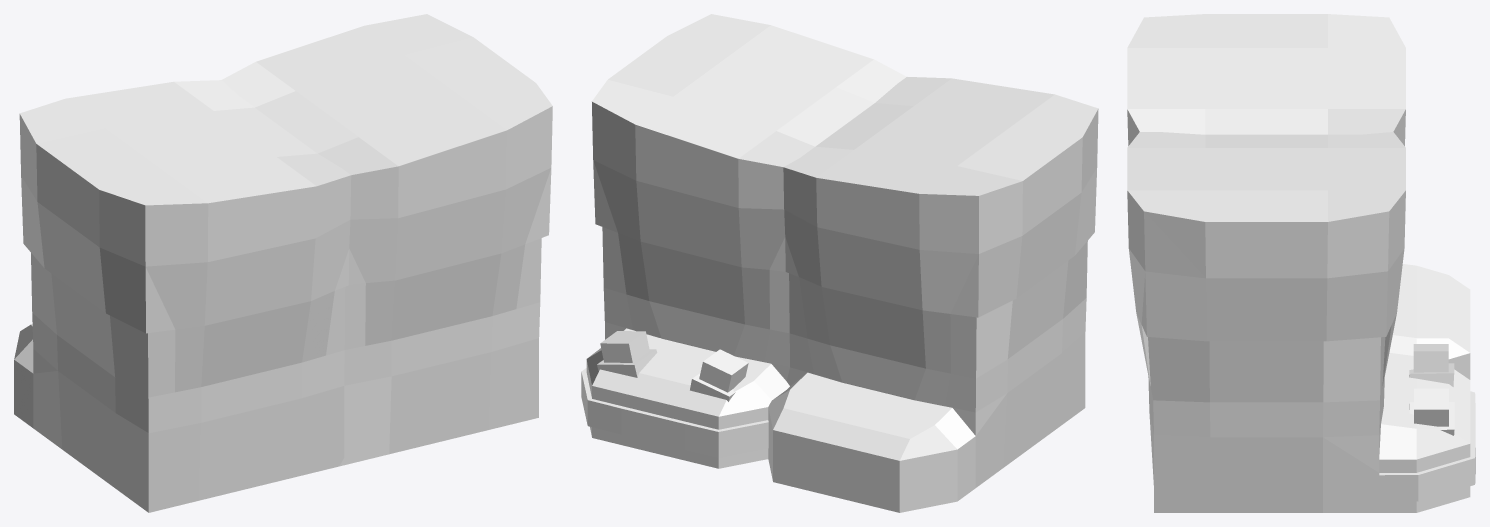
3 renders of one model, left to right at view 1: azimuth 30°, elevation 25°; view 2: azimuth 150°, elevation 25°; view 3: azimuth 270°, elevation 25°, orthographic. The views are drawn at different scales.
Visible parts, largest first — view 1: left_leg, right_leg; view 2: left_leg, right_leg; view 3: right_leg, left_leg.
Part boxes in pixels (<box>): left_leg: <box>14,80,351,512</box>; right_leg: <box>221,14,552,466</box>; left_leg: <box>768,77,1098,512</box>; right_leg: <box>581,14,906,468</box>; right_leg: <box>1127,132,1475,512</box>; left_leg: <box>1127,14,1470,379</box>.
Size of the model in its own units: 0.5738 by 0.3932 by 0.4063.
Materials: 1 (1 with a texture image).
